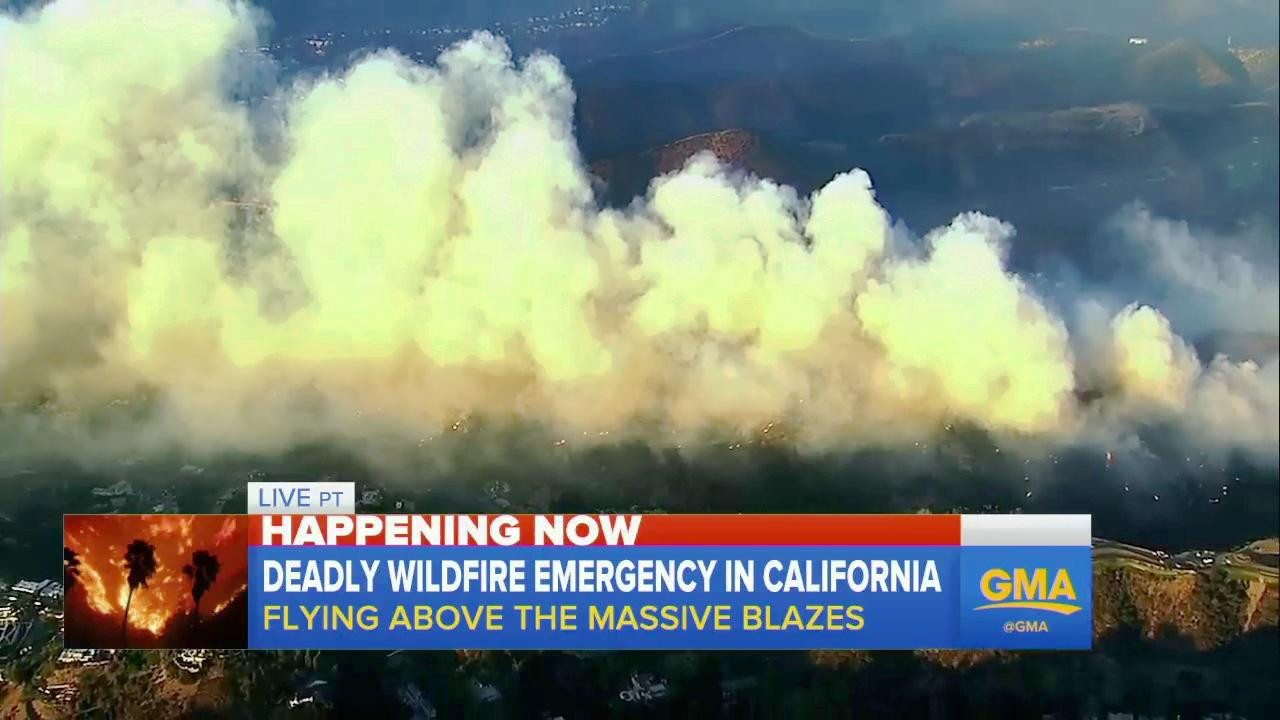smoke: (0, 2, 1278, 475), (271, 39, 799, 468), (810, 166, 1271, 465), (0, 0, 254, 347)
